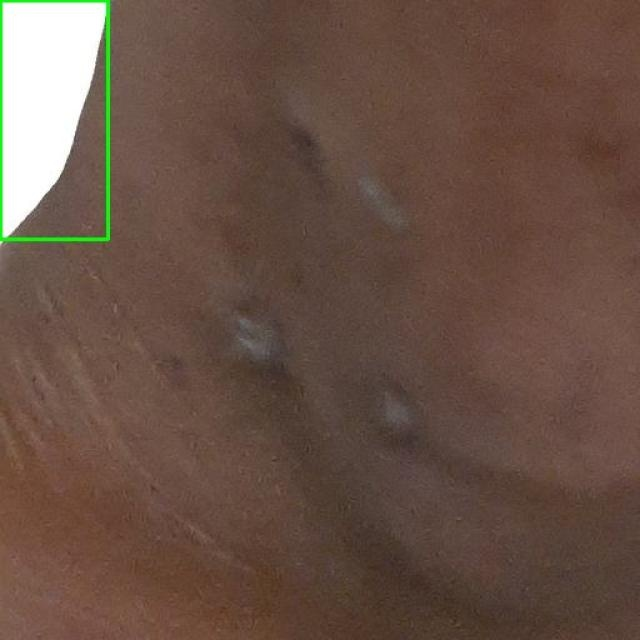Contact Dermatitis: (0, 0, 108, 239)
